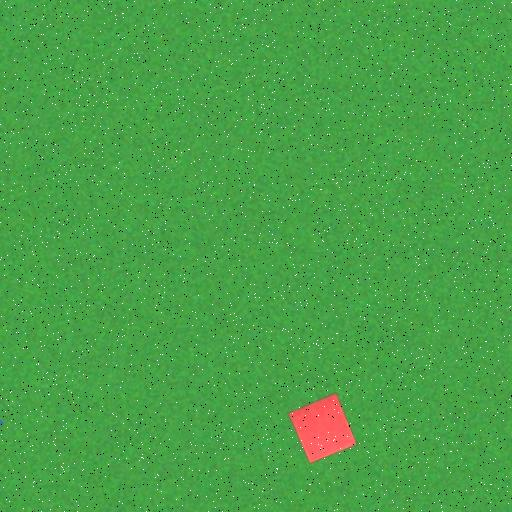RED_SQUARE: (288, 392, 358, 464)
